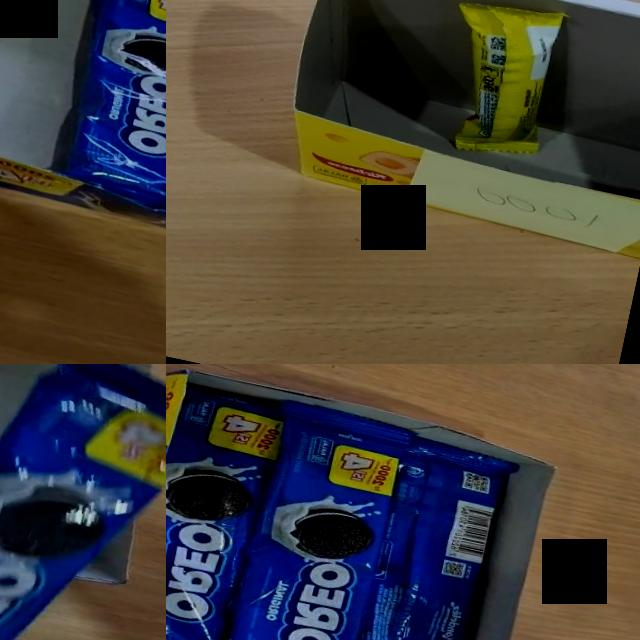Ahh: (428, 0, 567, 165)
Oreo: (0, 364, 166, 640), (231, 401, 413, 640), (361, 437, 516, 640), (166, 375, 282, 640), (47, 0, 166, 214)
